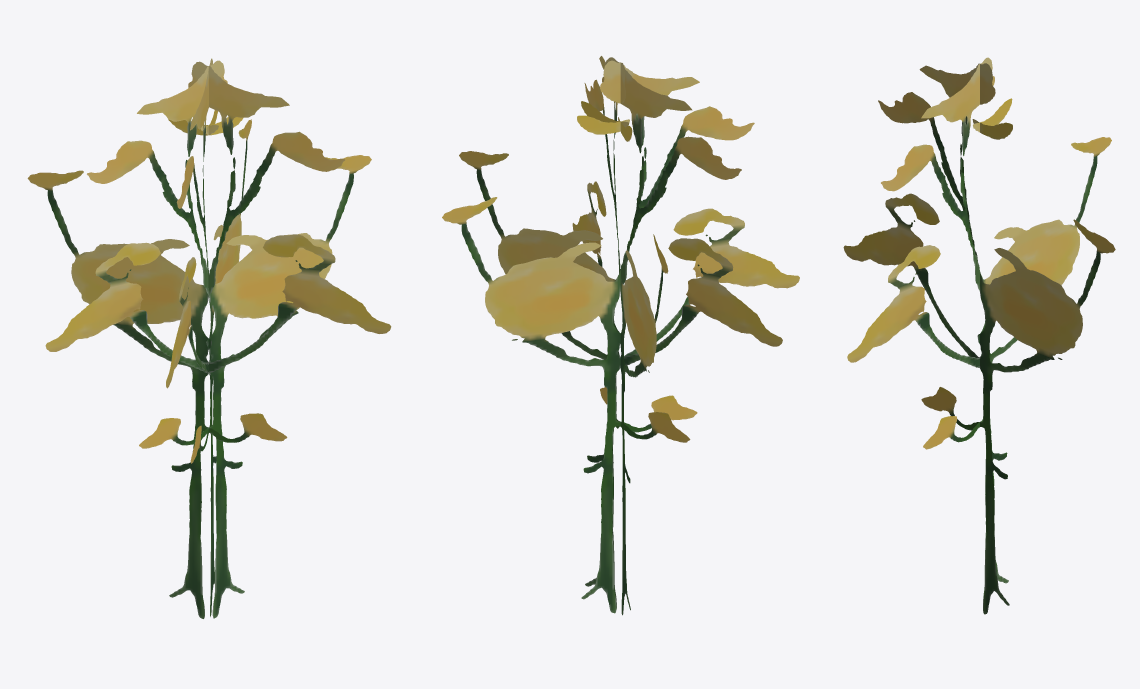
File: Flower_01.fbx
3 views of the same model, side by side, from view 1: azimuth 30°, elevation 25°; view 2: azimuth 150°, elevation 25°; view 3: azimuth 270°, elevation 25° (orthographic).
Visible parts, largest first — view 1: SM_StandingFlower_04; view 2: SM_StandingFlower_04; view 3: SM_StandingFlower_04.
Part boxes in pixels (x1=…): SM_StandingFlower_04: x1=27, y1=58, x2=391, y2=618; SM_StandingFlower_04: x1=442, y1=56, x2=799, y2=615; SM_StandingFlower_04: x1=843, y1=57, x2=1115, y2=614.
Bounding box in the file's own units: 21.91 × 39.68 × 15.97.
